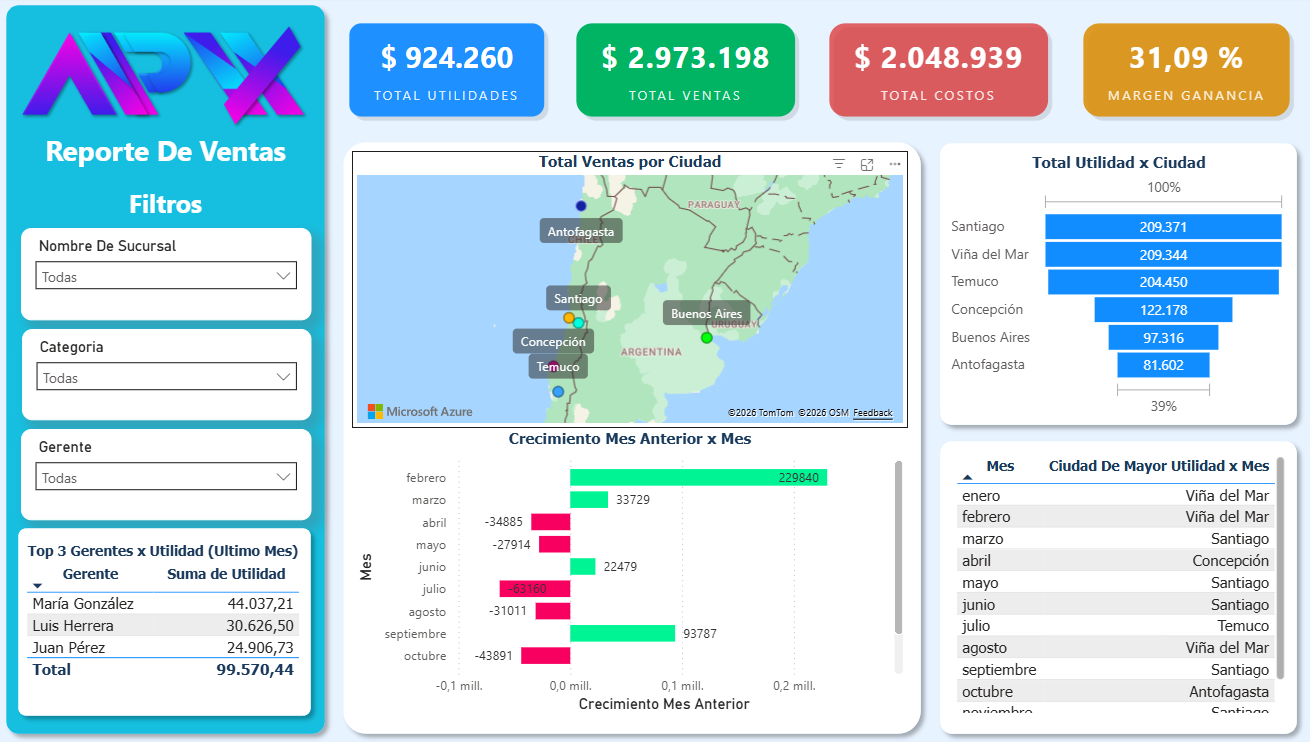

The dashboard page shown, as its layout file describes it:
{"tool":"powerbi","page":{"name":"Reporte","canvas":[1280,720],"ordinal":0},"visuals":[{"type":"htmlContent443BE3AD55E043BF878BED274D3A6855","fields":{"content":["costos.Total_Utilidades_Tarjeta"]},"box":[334.5,21.2,202.4,110.8],"z":0},{"type":"htmlContent443BE3AD55E043BF878BED274D3A6855","fields":{"content":["costos.Total_Ventas_Tarjeta"]},"box":[553.3,21.2,228.4,104.1],"z":1000},{"type":"htmlContent443BE3AD55E043BF878BED274D3A6855","fields":{"content":["costos.Total_Costos_Tarjeta"]},"box":[797.1,21.2,230.4,107],"z":2000},{"type":"htmlContent443BE3AD55E043BF878BED274D3A6855","fields":{"content":["costos.Margen_Ganancia_Tarjeta"]},"box":[1041.9,21.2,213,107],"z":3000},{"type":"shape","box":[324.8,132,574.5,588],"z":4000},{"type":"azureMap","title":"Total Ventas por Ciudad","fields":{"Category":["sucursales.ciudad"]},"box":[342.3,149.8,535.9,266.5],"z":5000},{"type":"barChart","title":"Crecimiento Mes Anterior x Mes","fields":{"Category":["Calendario.Date.Variación.Jerarquía de fechas.Mes","Calendario.Date.Variación.Jerarquía de fechas.Año"],"Y":["costos.Crecimiento_Mes_Anterior"]},"box":[342.3,416.3,535.9,279.1],"z":6000},{"type":"shape","box":[900.2,133,361.4,289.2],"z":7000},{"type":"funnel","title":"Total Utilidad x Ciudad","fields":{"Category":["sucursales.ciudad"],"Y":["costos.Utilidad"]},"box":[914.7,150.3,333.5,259.3],"z":8000},{"type":"shape","box":[900.2,420.2,361.4,299.8],"z":9000},{"type":"tableEx","fields":{"Values":["Calendario.Date.Variación.Jerarquía de fechas.Mes","costos.Ciudad_Mayor_Utilidad"]},"box":[919.5,438.6,326.7,257.3],"z":10000},{"type":"shape","box":[0,0,324.8,720],"z":11000},{"type":"slicer","fields":{"Values":["sucursales.nombre_sucursal"]},"box":[23.1,223.6,279.5,88.7],"z":12000},{"type":"slicer","fields":{"Values":["productos.categoria"]},"box":[24.1,321,278.6,87.7],"z":13000},{"type":"slicer","fields":{"Values":["sucursales.gerente"]},"box":[23.1,417.3,279.5,87.7],"z":14000},{"type":"image","box":[21.3,24.3,281.1,108],"z":15000},{"type":"shape","box":[11.6,504.1,299.8,198.6],"z":16000},{"type":"tableEx","title":"Top 3 Gerentes x Utilidad (Ultimo Mes)","fields":{"Values":["Top_3_Gerentes_Tabla.gerente","Sum(Top_3_Gerentes_Tabla.Utilidad)"]},"box":[23.1,527.2,273.7,155.2],"z":17000},{"type":"textbox","box":[11.6,125.3,301.7,95.4],"z":18000}]}

Visuals, with their boxes in screenshot pixels (x1, y1, x2, y2), scaled from the page's 1280x720 canvas onto the 1310x742 screenshot:
htmlContent443BE3AD55E043BF878BED274D3A6855 - costos.Total_Utilidades_Tarjeta: 342, 22, 549, 136
htmlContent443BE3AD55E043BF878BED274D3A6855 - costos.Total_Ventas_Tarjeta: 566, 22, 800, 129
htmlContent443BE3AD55E043BF878BED274D3A6855 - costos.Total_Costos_Tarjeta: 816, 22, 1052, 132
htmlContent443BE3AD55E043BF878BED274D3A6855 - costos.Margen_Ganancia_Tarjeta: 1066, 22, 1284, 132
shape: 332, 136, 920, 741
"Total Ventas por Ciudad" azureMap: 350, 154, 899, 429
"Crecimiento Mes Anterior x Mes" barChart: 350, 429, 899, 717
shape: 921, 137, 1291, 435
"Total Utilidad x Ciudad" funnel: 936, 155, 1277, 422
shape: 921, 433, 1291, 741
tableEx - Calendario.Date.Variación.Jerarquía de fechas.Mes x costos.Ciudad_Mayor_Utilidad: 941, 452, 1275, 717
shape: 0, 0, 332, 741
slicer - sucursales.nombre_sucursal: 24, 230, 310, 322
slicer - productos.categoria: 25, 331, 310, 421
slicer - sucursales.gerente: 24, 430, 310, 520
image: 22, 25, 309, 136
shape: 12, 520, 319, 724
"Top 3 Gerentes x Utilidad (Ultimo Mes)" tableEx: 24, 543, 304, 703
textbox: 12, 129, 321, 227
